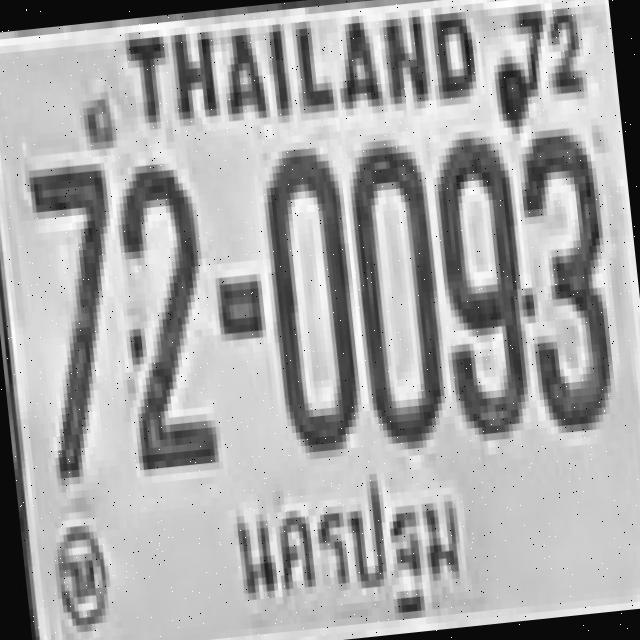0: (254, 138, 361, 448), (341, 133, 448, 442)
2: (109, 154, 216, 463)
3: (507, 119, 618, 428)
7: (23, 152, 132, 476)
9: (424, 128, 532, 437)
NakhonPathom: (224, 460, 479, 637)
